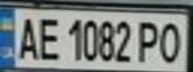0: (78, 16, 100, 62)
1: (63, 15, 84, 62)
2: (115, 17, 136, 63)
8: (97, 16, 118, 63)
A: (12, 12, 42, 61)
E: (33, 12, 63, 62)
O: (154, 18, 187, 64)
P: (136, 17, 163, 64)
